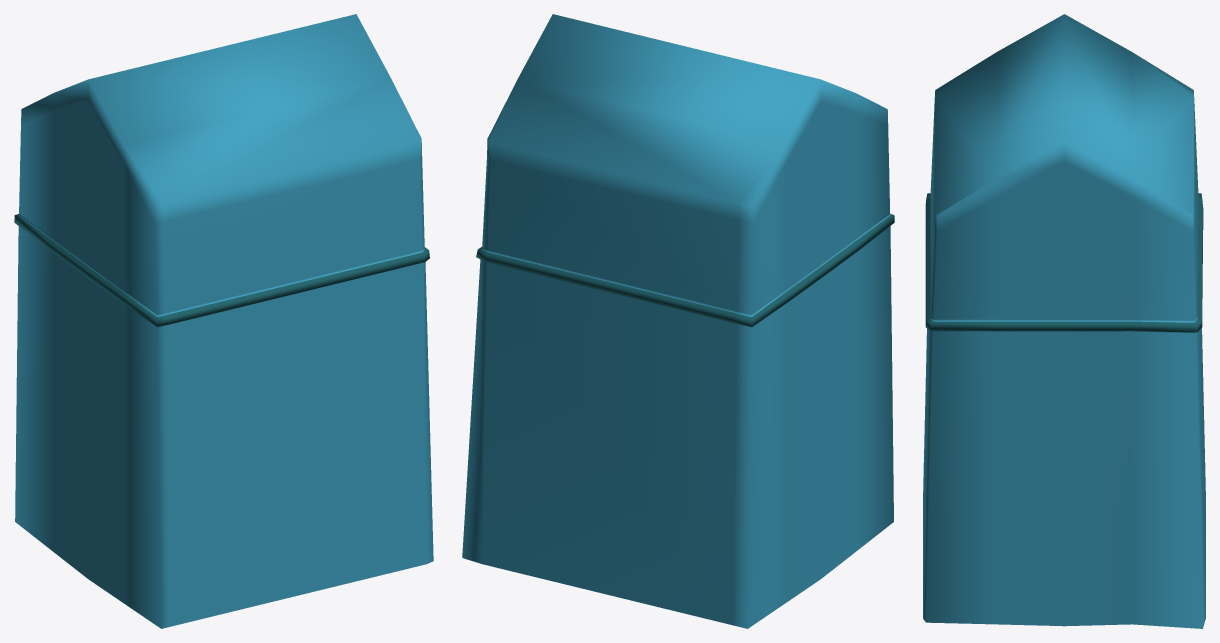
The model's file is BuildingPeakRoof_wBand.fbx.
The picture shows the model from 3 angles, left to right: view 1: azimuth 30°, elevation 25°; view 2: azimuth 150°, elevation 25°; view 3: azimuth 270°, elevation 25°; orthographic projection. The views are drawn at different scales.
Parts seen in each view (by area): view 1: BuildingPeakRoof_wBand; view 2: BuildingPeakRoof_wBand; view 3: BuildingPeakRoof_wBand.
Boxes of the visible parts, x1,y1,x2,y2 form: BuildingPeakRoof_wBand: [14, 14, 433, 628]; BuildingPeakRoof_wBand: [462, 14, 894, 628]; BuildingPeakRoof_wBand: [923, 14, 1205, 628].
Bounding box in the file's own units: 4.86 × 4.23 × 7.97.
